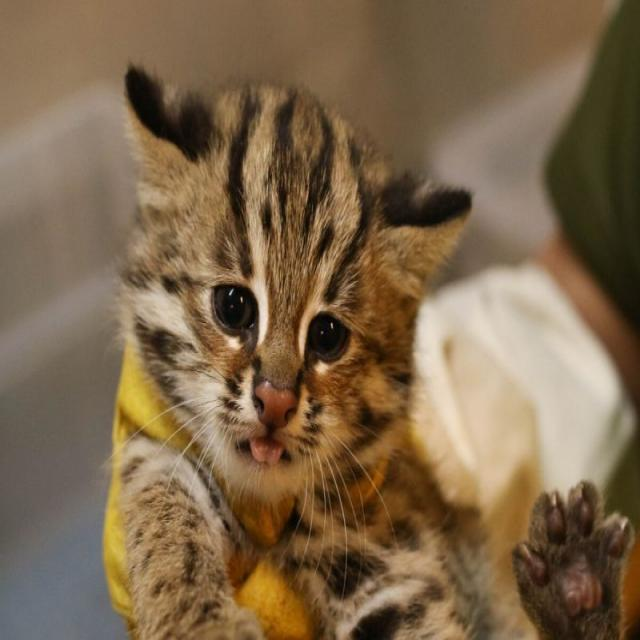leopard-cat: (116, 47, 472, 601)
